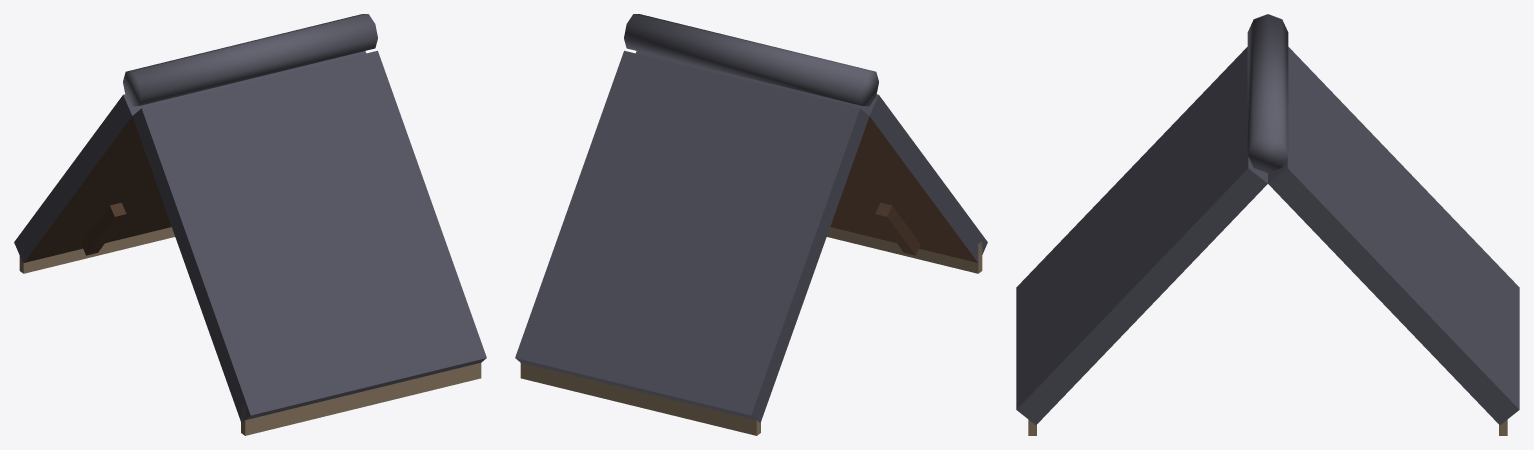
File: kit_clapboard_slate_w1.glb
3 renders of one model, left to right at view 1: azimuth 30°, elevation 25°; view 2: azimuth 150°, elevation 25°; view 3: azimuth 270°, elevation 25°, orthographic. The views are drawn at different scales.
Visible parts, largest first — view 1: kit_clapboard_slate_w1; view 2: kit_clapboard_slate_w1; view 3: kit_clapboard_slate_w1.
Boxes of the visible parts, left/top/right/bottom form: kit_clapboard_slate_w1: left=14, top=14, right=486, bottom=435; kit_clapboard_slate_w1: left=515, top=14, right=987, bottom=435; kit_clapboard_slate_w1: left=1016, top=14, right=1519, bottom=435.
Size of the model in its own units: 1 by 1.14 by 1.74.
